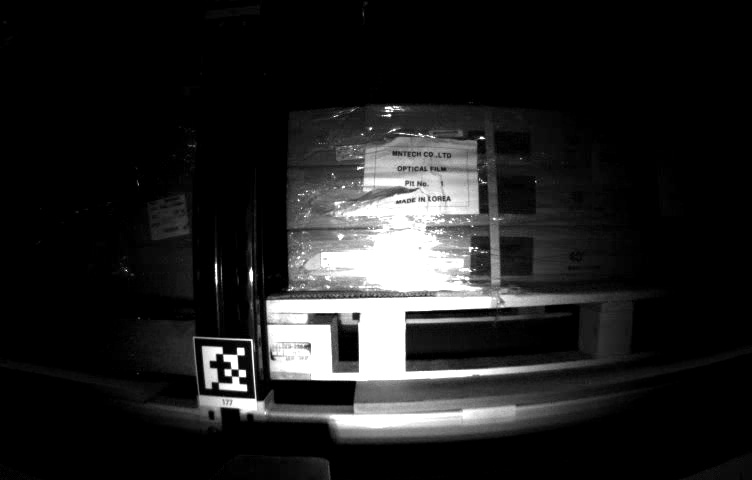True Barcode: (365, 230, 430, 290), (146, 195, 193, 240)
